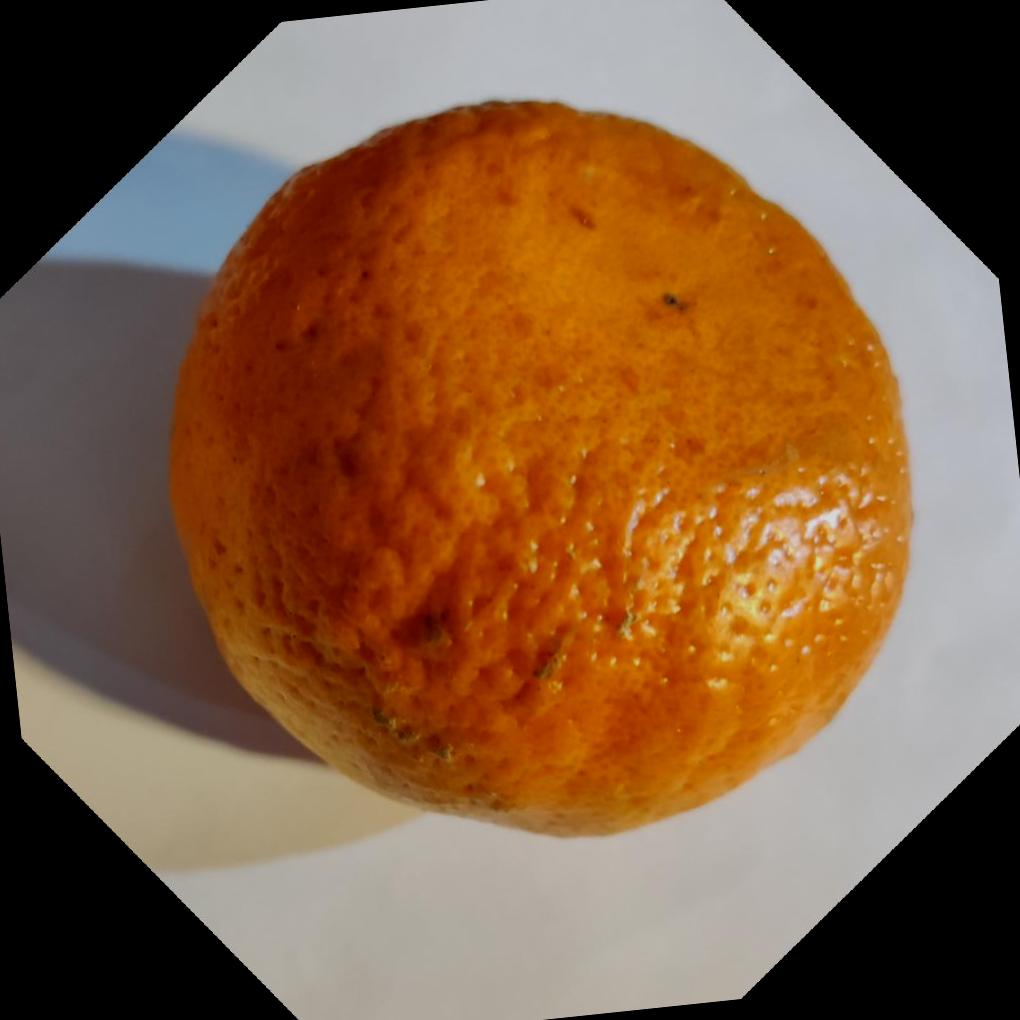FreshGuava: (166, 101, 915, 842)
